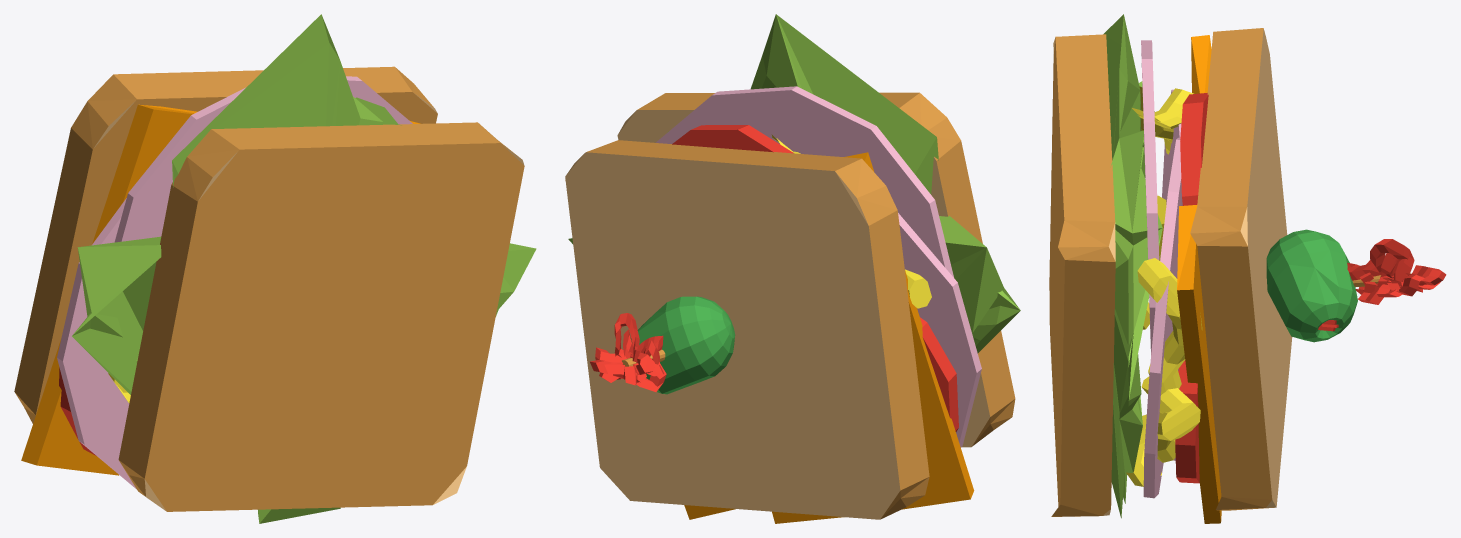
The picture shows the model from 3 angles, left to right: view 1: azimuth 30°, elevation 25°; view 2: azimuth 150°, elevation 25°; view 3: azimuth 270°, elevation 25°; orthographic projection. The views are drawn at different scales.
Parts seen in each view (by area): view 1: imagetostl_mesh0; view 2: imagetostl_mesh0; view 3: imagetostl_mesh0.
Part boxes in pixels (x1=…): imagetostl_mesh0: x1=14, y1=14, x2=536, y2=523; imagetostl_mesh0: x1=565, y1=14, x2=1020, y2=523; imagetostl_mesh0: x1=1049, y1=14, x2=1446, y2=523.
Size of the model in its own units: 66.28 by 68.53 by 50.17.
